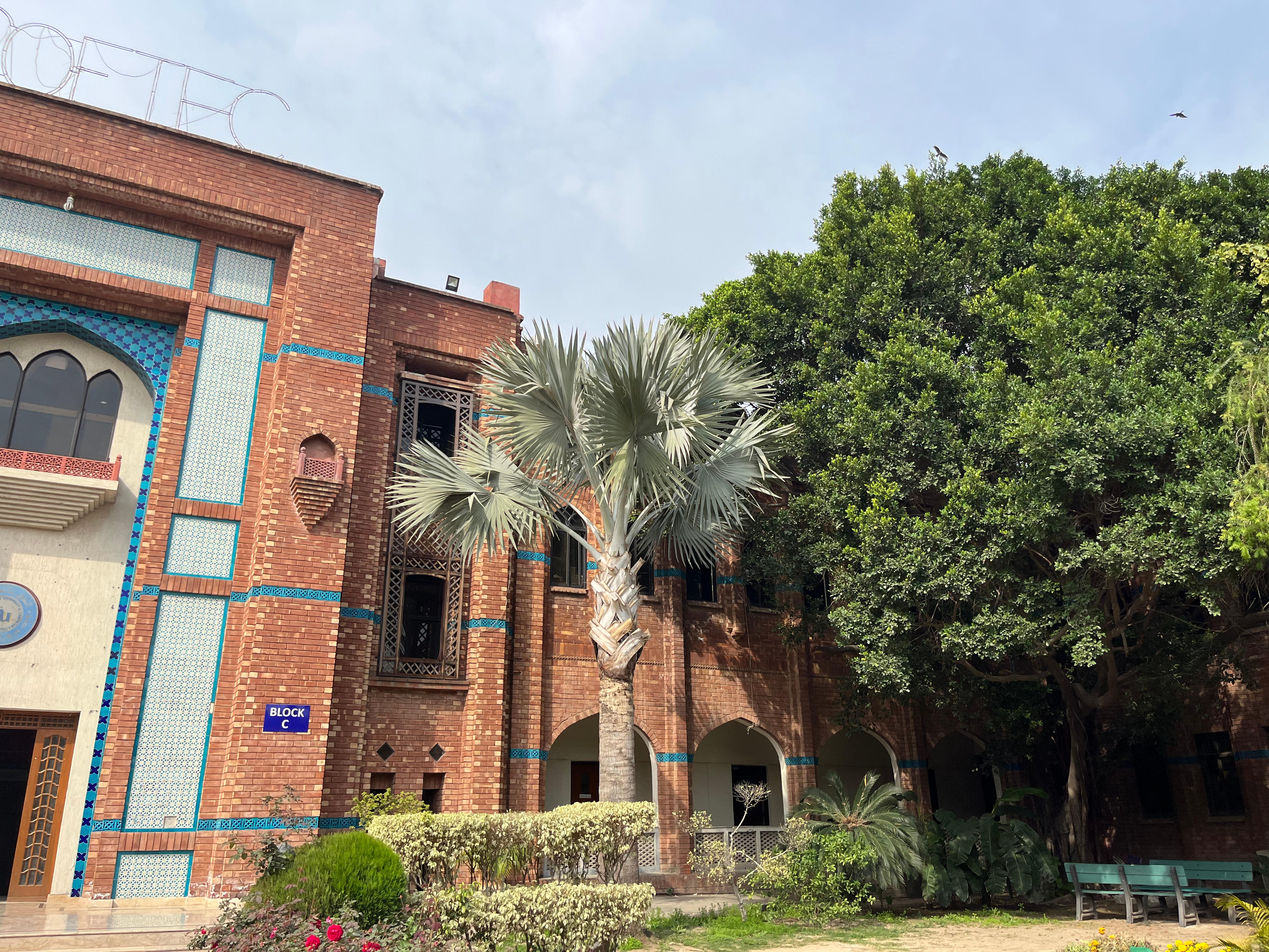Block C: (1, 8, 1013, 913)
